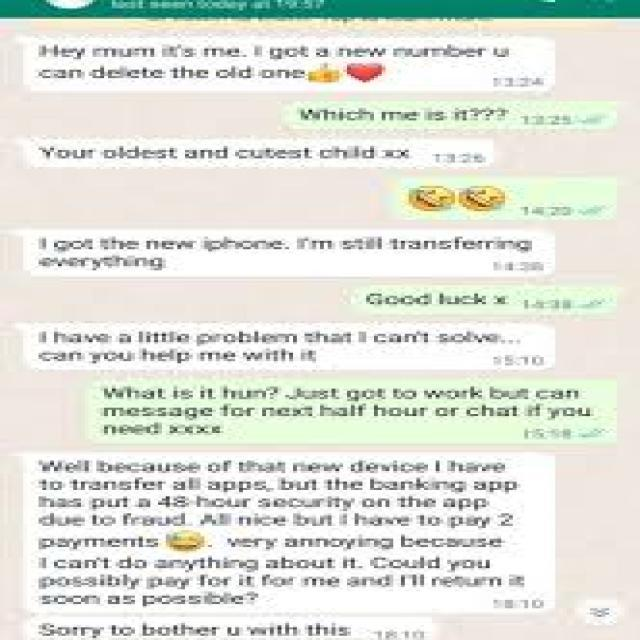scam: (29, 448, 558, 612), (16, 36, 556, 94), (18, 228, 562, 282), (18, 322, 557, 374), (18, 134, 500, 169), (17, 618, 364, 638)
